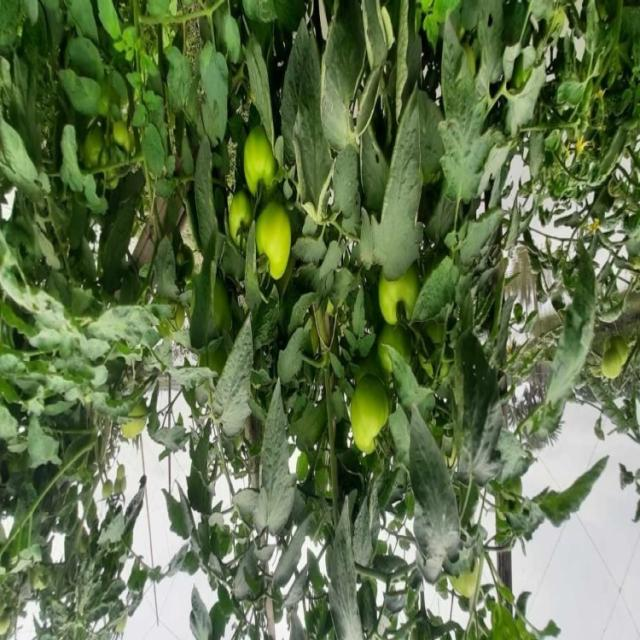tomato: (244, 203, 307, 290), (235, 116, 289, 207), (344, 372, 395, 447), (378, 263, 422, 341), (216, 176, 254, 245), (80, 125, 122, 167), (597, 340, 632, 388), (450, 565, 485, 608)
